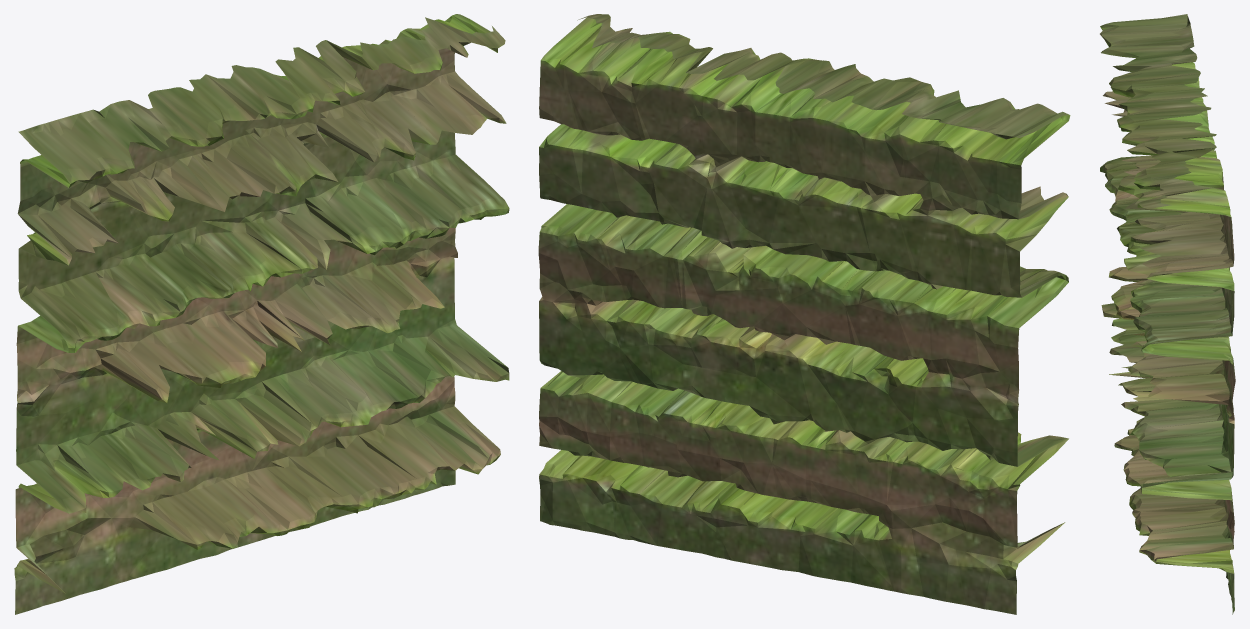
File: map_240_70.obj
3 views of the same model, side by side, from view 1: azimuth 30°, elevation 25°; view 2: azimuth 150°, elevation 25°; view 3: azimuth 270°, elevation 25° (orthographic). The views are drawn at different scales.
Parts seen in each view (by area): view 1: grp1; view 2: grp1; view 3: grp1.
Part boxes in pixels (x1=…): grp1: x1=14, y1=14, x2=509, y2=614; grp1: x1=538, y1=14, x2=1070, y2=614; grp1: x1=1100, y1=14, x2=1235, y2=614.
Bounding box in the file's own units: 10 × 10 × 3.01.
Materials: 1 (1 with a texture image).
